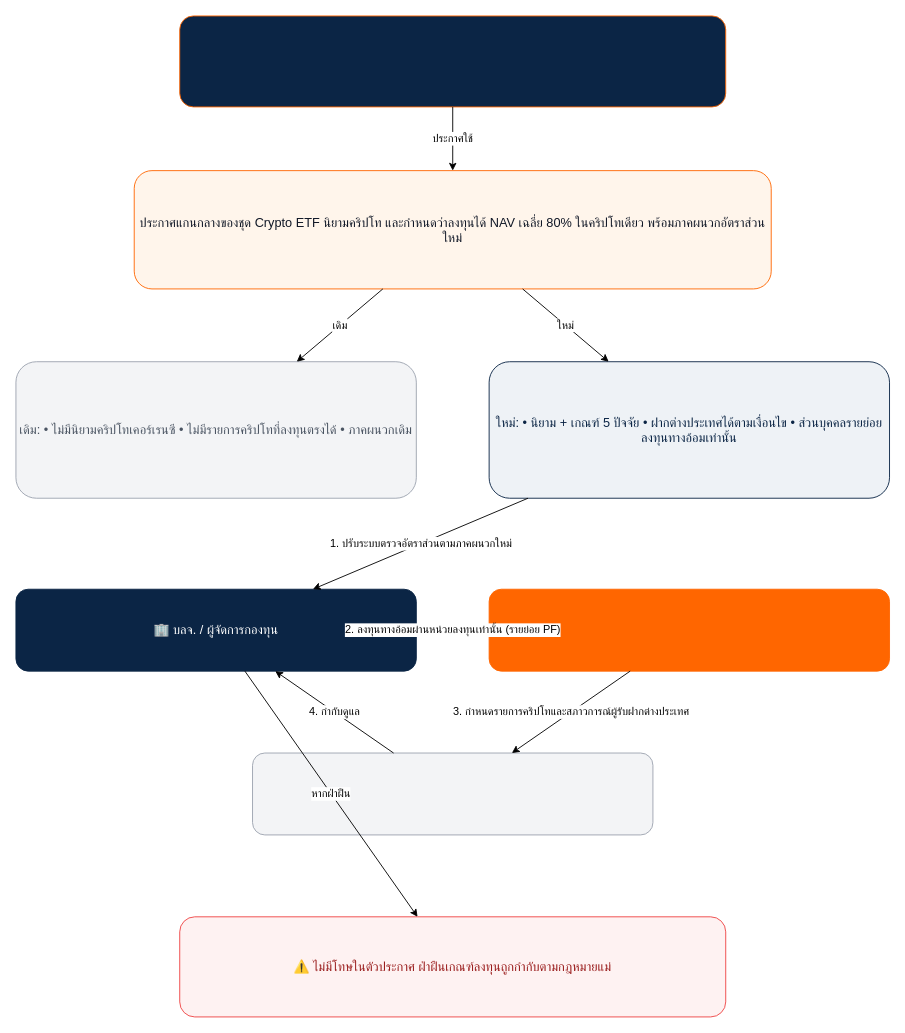
Some shapes in this 905 by 1033 pixel diagram are drawn without their labels. The shapes that lost their labels are listed below. From the top down, each one's centre as x and y in pixels, then its label:
At (x=452, y=61): "ทน.20/2569 การลงทุนของกองทุน ฉบับที่ 37".
At (x=689, y=629): "👤 ผู้ลงทุนในกองทุนรวม/ส่วนบุคคล".
At (x=452, y=793): "🏛️ ก.ล.ต.".
